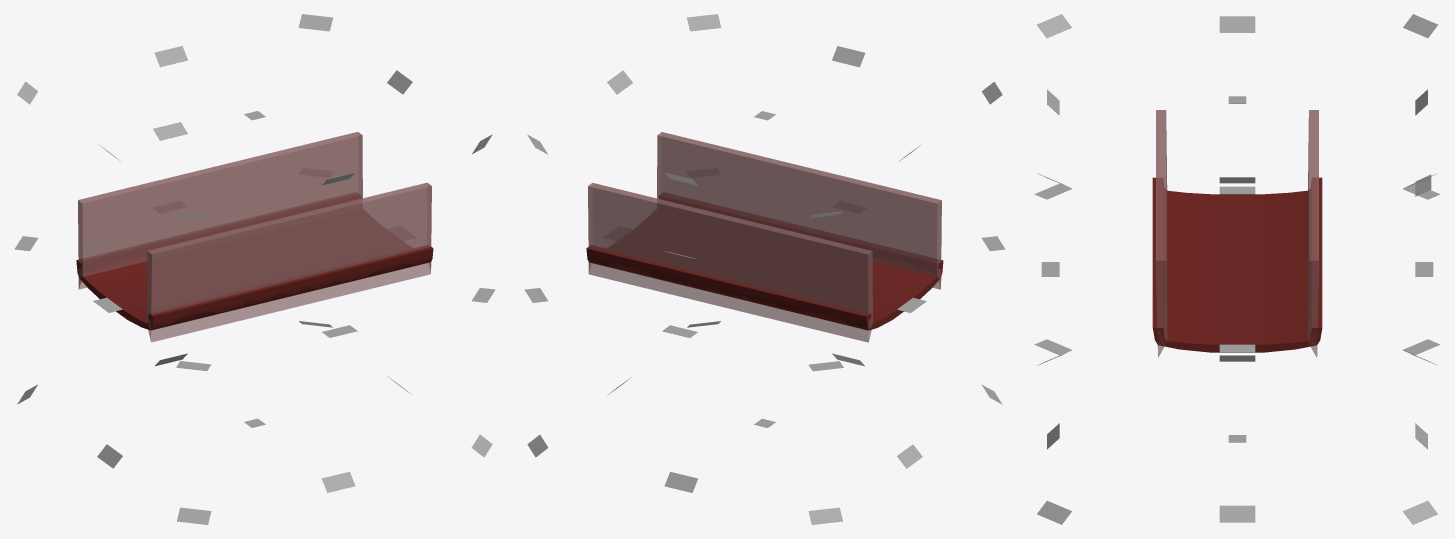
File: FlatConnectorStraight.fbx
The picture shows the model from 3 angles, left to right: view 1: azimuth 30°, elevation 25°; view 2: azimuth 150°, elevation 25°; view 3: azimuth 270°, elevation 25°; orthographic projection. The views are drawn at different scales.
Visible parts, largest first — view 1: Barrier, pPipe3; view 2: Barrier, pPipe3; view 3: pPipe3, Barrier, pasted__pCube29, pasted__pCube36, pasted__pCube46, pasted__pCube43, pasted__pCube49, pasted__pCube50.
Boxes of the visible parts, x1,y1,x2,y2 form: Barrier: (78,132,431,342); pPipe3: (76,193,433,330); Barrier: (588,132,941,342); pPipe3: (586,193,943,330); pPipe3: (1152,177,1322,352); Barrier: (1156,110,1318,357); pasted__pCube29: (1219,505,1255,522); pasted__pCube36: (1219,16,1255,32); pasted__pCube46: (1037,500,1071,524); pasted__pCube43: (1403,500,1437,524); pasted__pCube49: (1403,14,1437,37); pasted__pCube50: (1037,14,1071,37).
Bounding box in the file's own units: 22.82 × 21.41 × 22.82.
